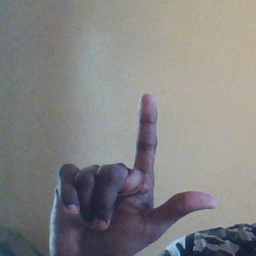L: (43, 90, 226, 256)
